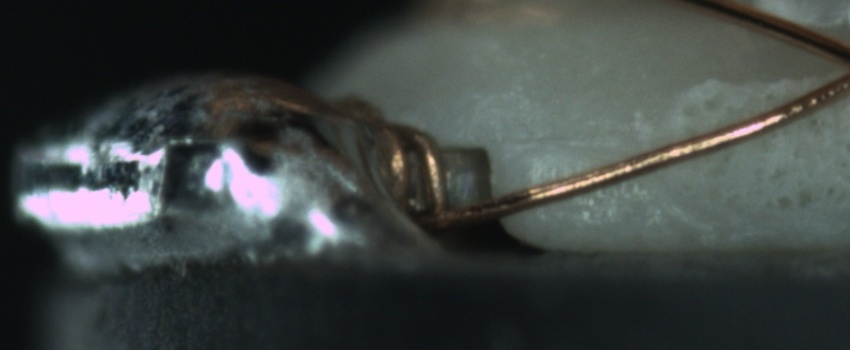CL: (806, 35, 850, 106)
DL: (508, 108, 653, 172)
TE: (365, 105, 456, 225)
